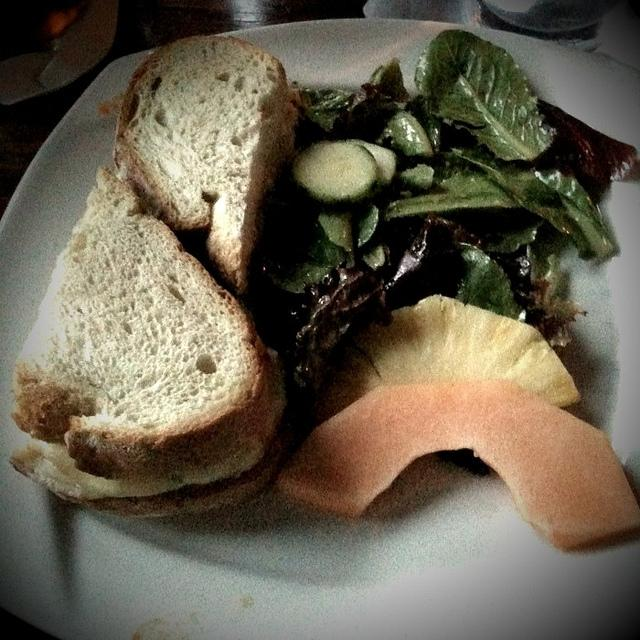cucumber: (291, 140, 380, 204), (344, 138, 398, 188)
lettuce: (453, 147, 618, 266), (414, 29, 558, 161), (248, 113, 348, 293), (512, 100, 640, 208), (292, 268, 392, 392), (383, 152, 525, 222), (290, 59, 412, 132), (440, 208, 544, 255), (457, 249, 518, 319)
pineapple: (313, 294, 581, 425)
